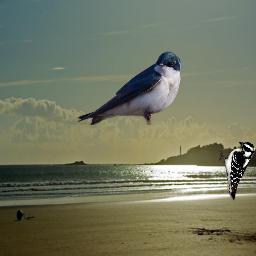Swallow: (76, 51, 182, 125)
Woodpecker: (219, 142, 255, 202)
